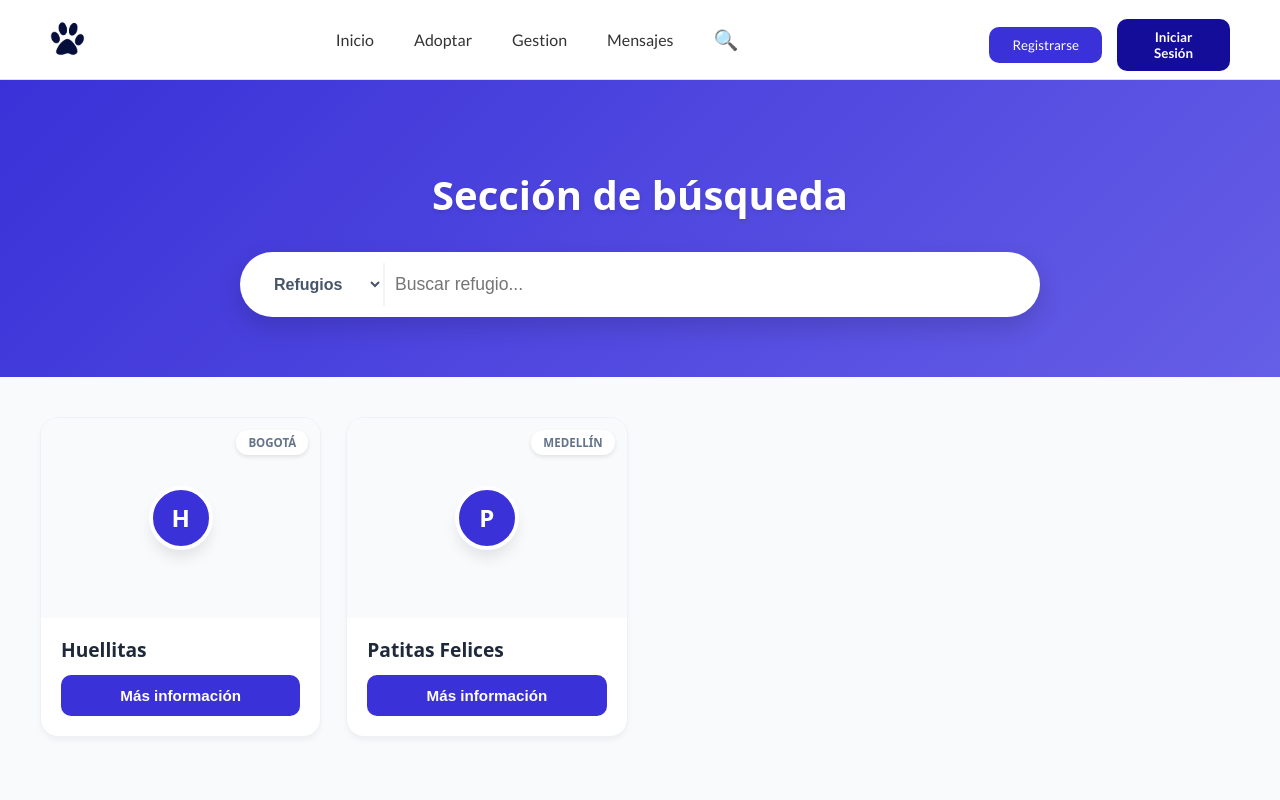
Scenario: Search Page › cierra el modal al hacer clic en Cerrar
Check: the heading "Huellitas" is shown, box x1=61 y1=636 x2=147 y2=663
Click the button "Más información" below "Huellitas": (181, 696) x1=61 y1=675 x2=300 y2=716
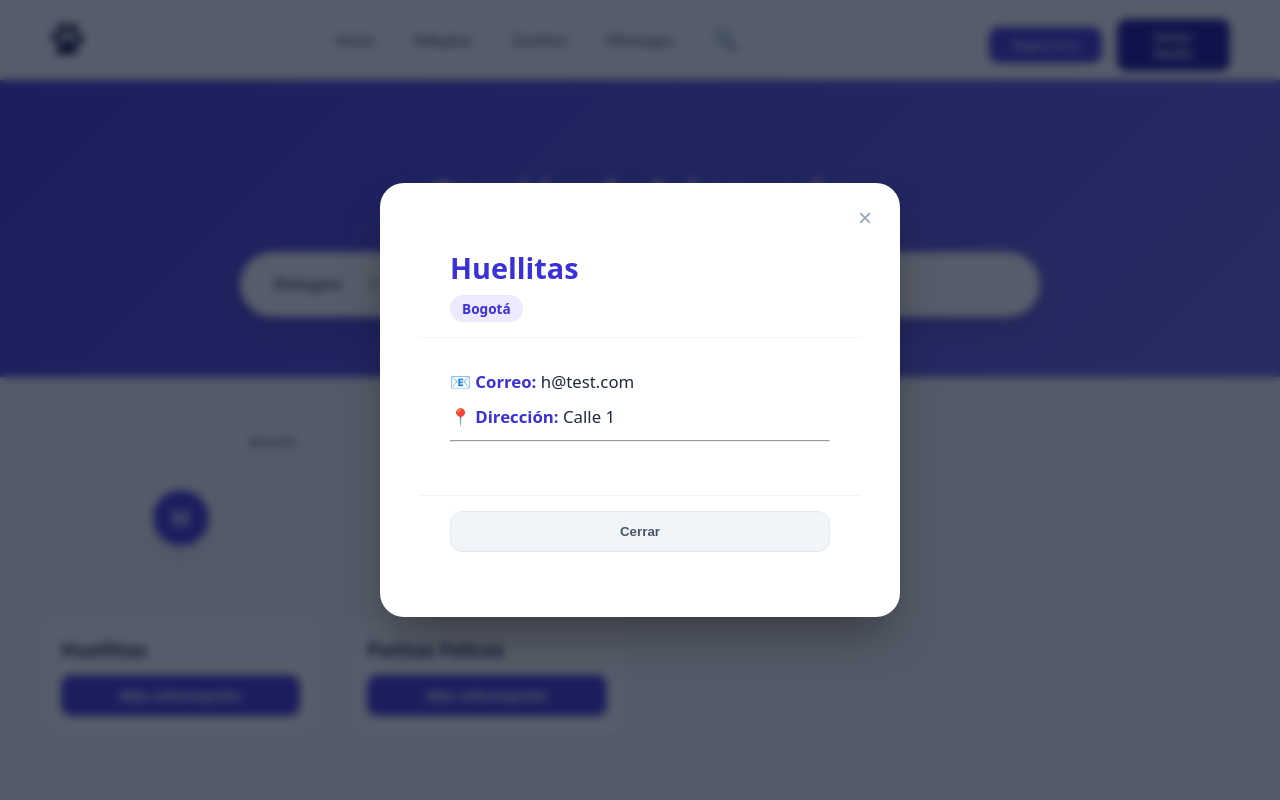
Click the button "Cerrar": (640, 532) x1=450 y1=511 x2=830 y2=552
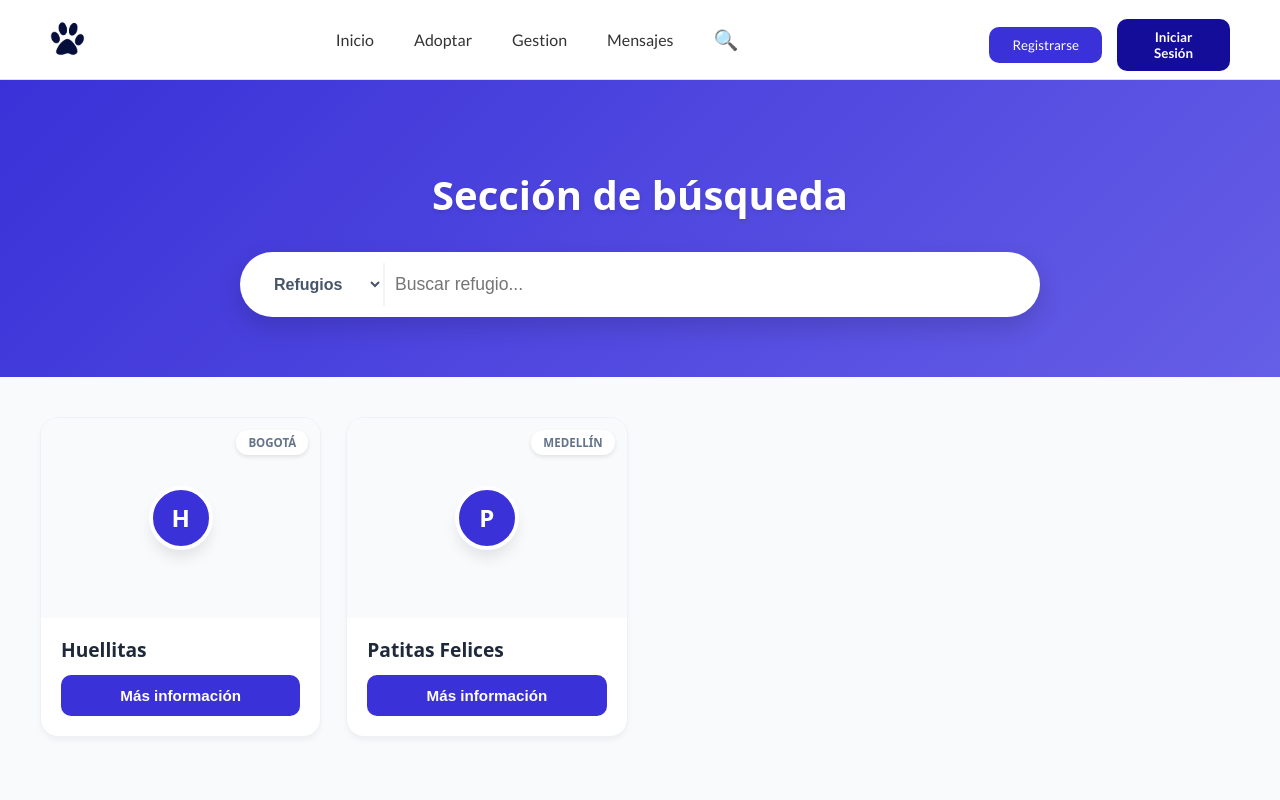
Check: the button "Cerrar" is gone
